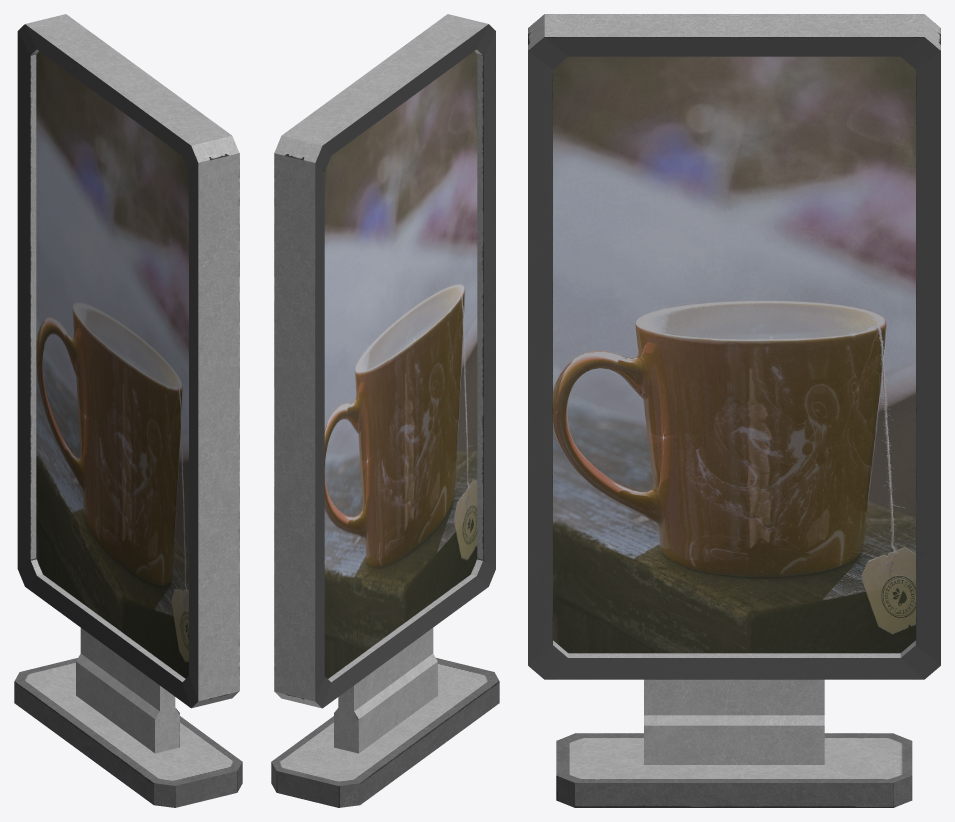
Rendered from Panel014.FBX.
3 views of the same model, side by side, from view 1: azimuth 30°, elevation 25°; view 2: azimuth 150°, elevation 25°; view 3: azimuth 270°, elevation 25° (orthographic). The views are drawn at different scales.
Parts seen in each view (by area): view 1: Panel014; view 2: Panel014; view 3: Panel014.
Part boxes in pixels (x1,y1,x2,y2): Panel014: (14, 14, 242, 807); Panel014: (271, 14, 499, 807); Panel014: (528, 14, 940, 807).
Size of the model in its own units: 297 by 2125 by 1049.
